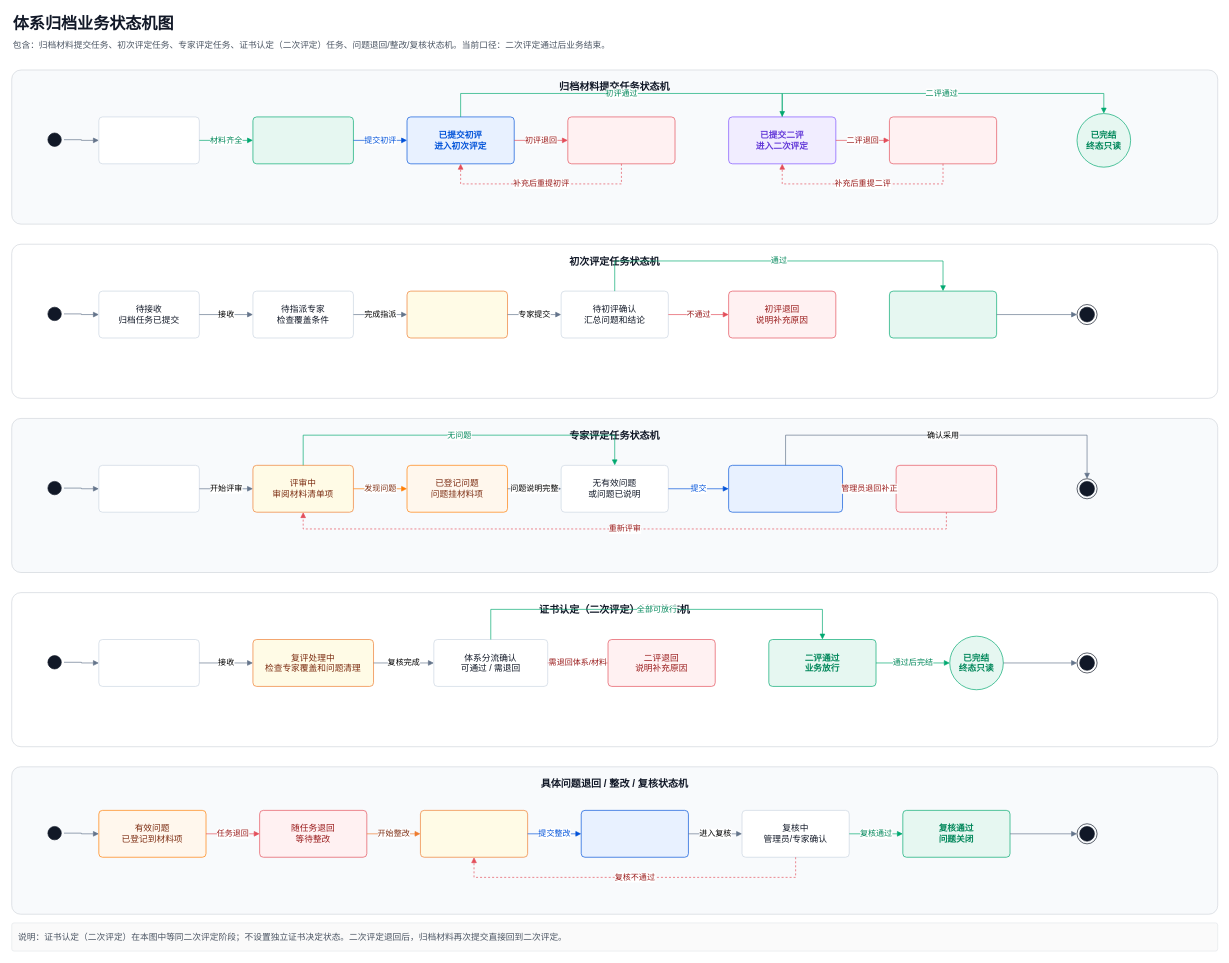
Image size: 1229x963. Some labels were removed from this diagram. The shapes that lost their labels are listed below. From the top down, each one's centre as x and y in pixels, then its label:
At (x=148, y=140): "草稿 材料未齐全".
At (x=302, y=140): "待提交 必备材料齐全".
At (x=621, y=140): "初次评定退回 待补充材料".
At (x=943, y=140): "二次评定退回 待补充材料".
At (x=457, y=314): "专家评审中 等待专家结果".
At (x=943, y=314): "初评通过 流转二次评定".
At (x=148, y=488): "待评审 专家已被指派".
At (x=785, y=488): "已提交评审结果 等待管理员确认".
At (x=946, y=488): "退回补正 重新评审".
At (x=148, y=662): "待接收 初评已通过".
At (x=474, y=833): "整改中 补充材料 / 说明".
At (x=634, y=833): "已提交整改 等待复核".
